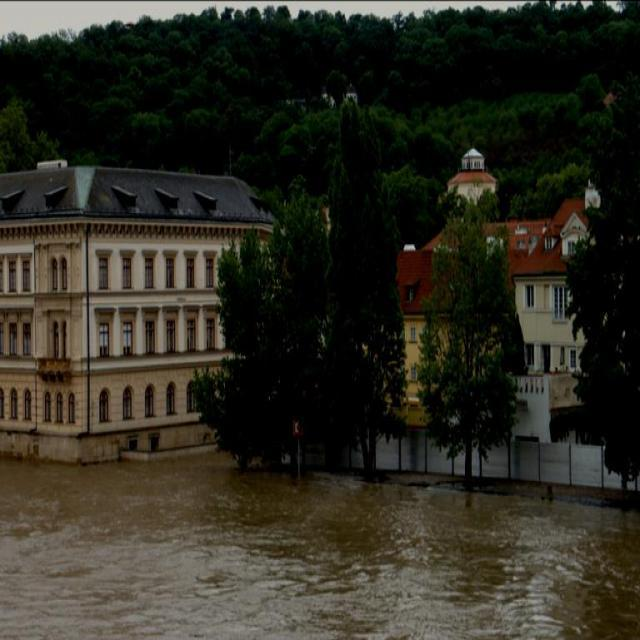flood: (3, 453, 639, 639)
